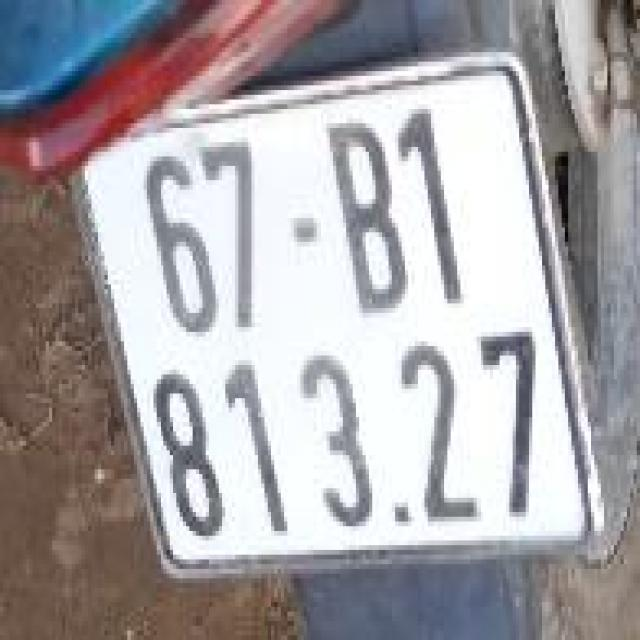1: (394, 84, 500, 325), (218, 346, 301, 543)
2: (404, 334, 478, 543)
3: (294, 325, 375, 538)
6: (127, 142, 231, 349)
7: (195, 125, 290, 339), (486, 318, 546, 540)
8: (149, 357, 245, 558)
B: (316, 91, 426, 334)
